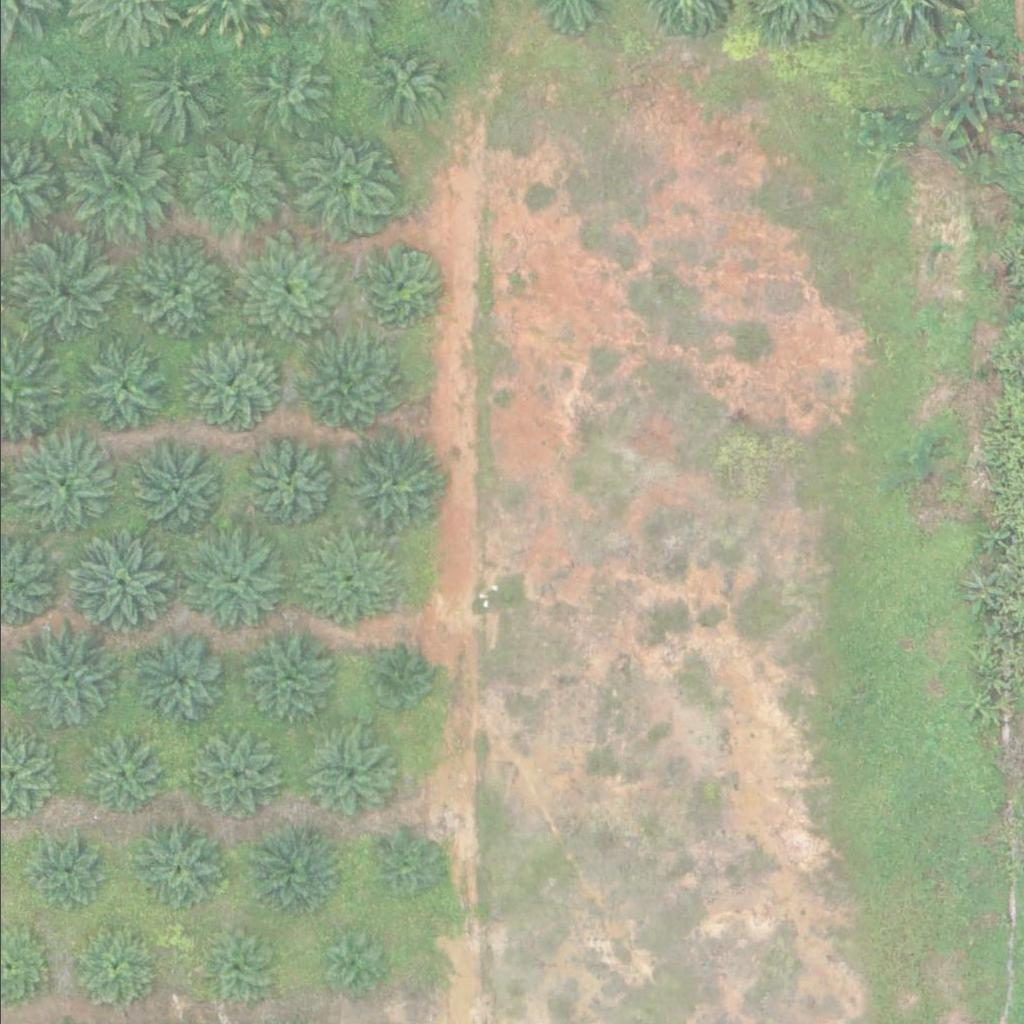Kelapa_Sawit: (229, 235, 343, 348), (117, 239, 231, 352), (7, 623, 120, 736), (3, 426, 117, 538), (60, 137, 173, 249), (3, 239, 116, 351), (333, 430, 446, 542), (63, 530, 176, 642), (290, 338, 391, 438), (231, 439, 332, 539), (125, 441, 226, 541), (293, 532, 394, 632), (187, 534, 288, 634), (235, 628, 336, 728), (127, 631, 228, 731), (297, 725, 398, 825), (291, 134, 391, 234), (181, 147, 281, 247), (182, 338, 282, 438), (71, 341, 171, 441), (185, 733, 274, 821), (358, 41, 446, 129), (128, 52, 216, 140), (243, 827, 331, 915), (130, 824, 218, 912), (64, 926, 152, 1014), (238, 57, 326, 144), (24, 56, 112, 143), (355, 242, 443, 329), (72, 730, 160, 817), (193, 929, 268, 1004), (25, 833, 100, 908), (372, 834, 435, 897), (325, 931, 388, 994), (370, 651, 433, 714)
